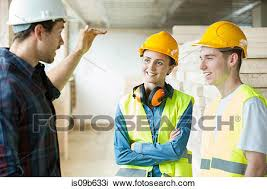Person_wearing_helmet: (2, 0, 77, 37), (195, 18, 249, 64), (133, 25, 179, 62)
